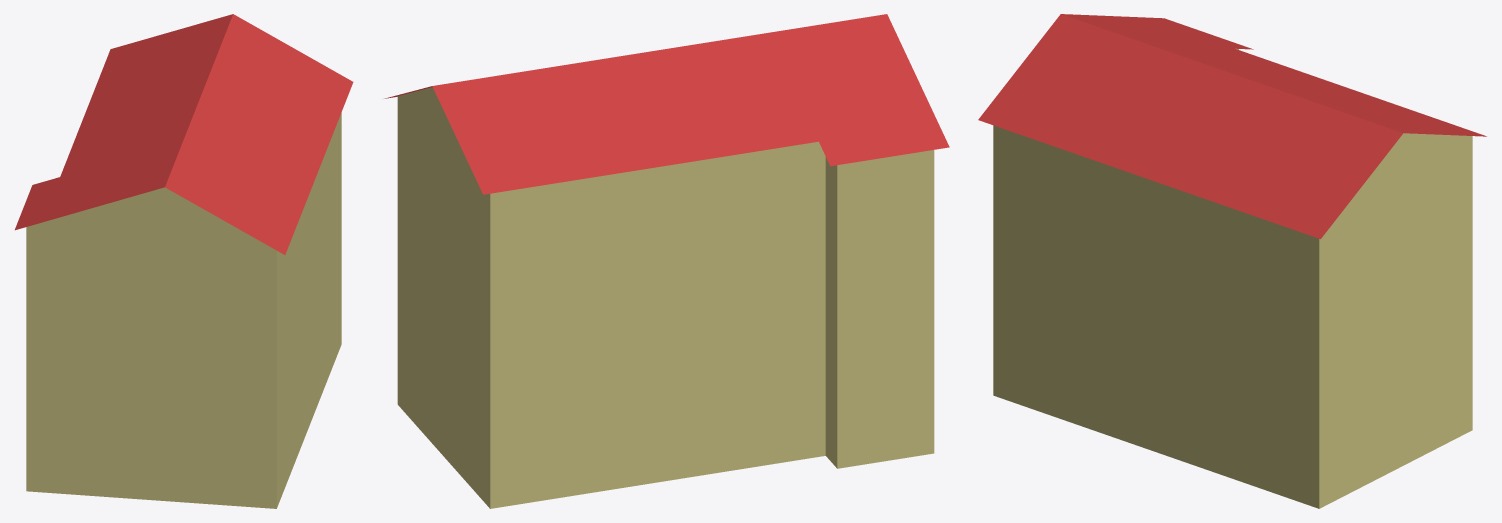
The picture shows the model from 3 angles, left to right: view 1: azimuth 30°, elevation 25°; view 2: azimuth 150°, elevation 25°; view 3: azimuth 270°, elevation 25°; orthographic projection. The views are drawn at different scales.
Parts seen in each view (by area): view 1: group_5, group_3, group_4; view 2: group_5, group_3, group_4; view 3: group_5, group_3, group_4.
Part boxes in pixels (x1=…): group_5: x1=26, y1=113, x2=341, y2=508; group_3: x1=15, y1=14, x2=352, y2=254; group_4: x1=58, y1=14, x2=353, y2=193; group_5: x1=397, y1=87, x2=934, y2=508; group_3: x1=384, y1=15, x2=949, y2=183; group_4: x1=432, y1=14, x2=891, y2=194; group_5: x1=993, y1=48, x2=1472, y2=508; group_3: x1=978, y1=14, x2=1471, y2=237; group_4: x1=1061, y1=14, x2=1486, y2=238.
Size of the model in its own units: 23.25 by 23.32 by 17.14.
